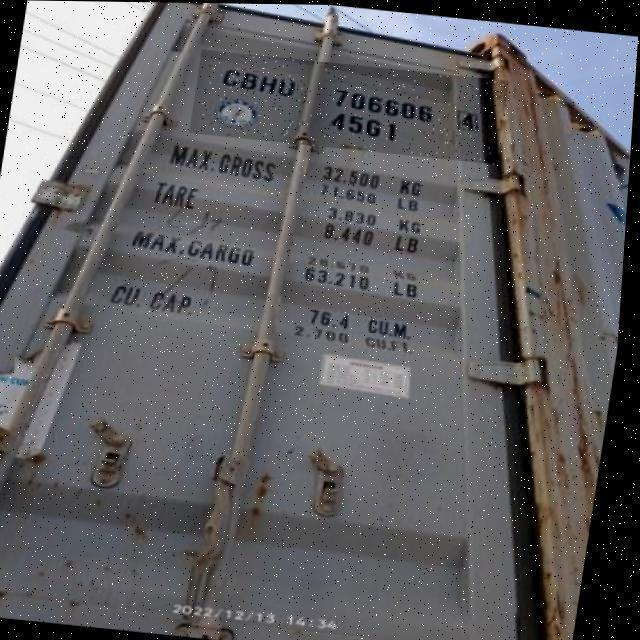container_number_h: (189, 48, 513, 163)
